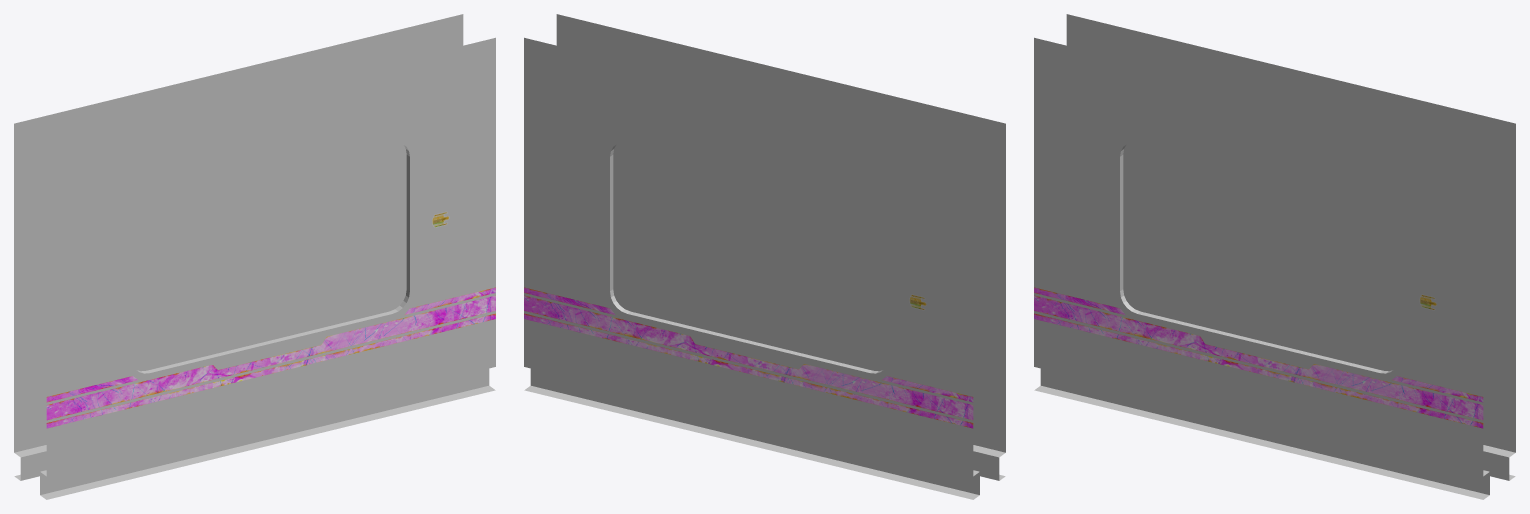
The model's file is wall_01_4x3_window.fbx.
3 views of the same model, side by side, from view 1: azimuth 30°, elevation 25°; view 2: azimuth 150°, elevation 25°; view 3: azimuth 330°, elevation 25° (orthographic).
Visible parts, largest first — view 1: Plane.453, Plane.585, Plane.451, Plane.447, Plane.450, Plane.446; view 2: Plane.446, Plane.447, Plane.448, Plane.585, Plane.449, Plane.453; view 3: Plane.453, Plane.585, Plane.451, Plane.447, Plane.450, Plane.446.
Boxes of the visible parts, x1,y1,x2,y2 form: Plane.453: (40, 134, 495, 499); Plane.585: (46, 37, 495, 335); Plane.451: (133, 145, 402, 366); Plane.447: (14, 14, 463, 311); Plane.450: (46, 287, 495, 428); Plane.446: (14, 304, 46, 480); Plane.446: (524, 134, 979, 499); Plane.447: (524, 37, 973, 335); Plane.448: (617, 145, 886, 366); Plane.585: (556, 14, 1005, 311); Plane.449: (524, 287, 973, 428); Plane.453: (973, 304, 1005, 480); Plane.453: (1034, 134, 1489, 499); Plane.585: (1034, 37, 1483, 335); Plane.451: (1127, 145, 1396, 366); Plane.447: (1066, 14, 1515, 311); Plane.450: (1034, 287, 1483, 428); Plane.446: (1483, 304, 1515, 480).
Bounding box in the file's own units: 4 × 3 × 0.502.
